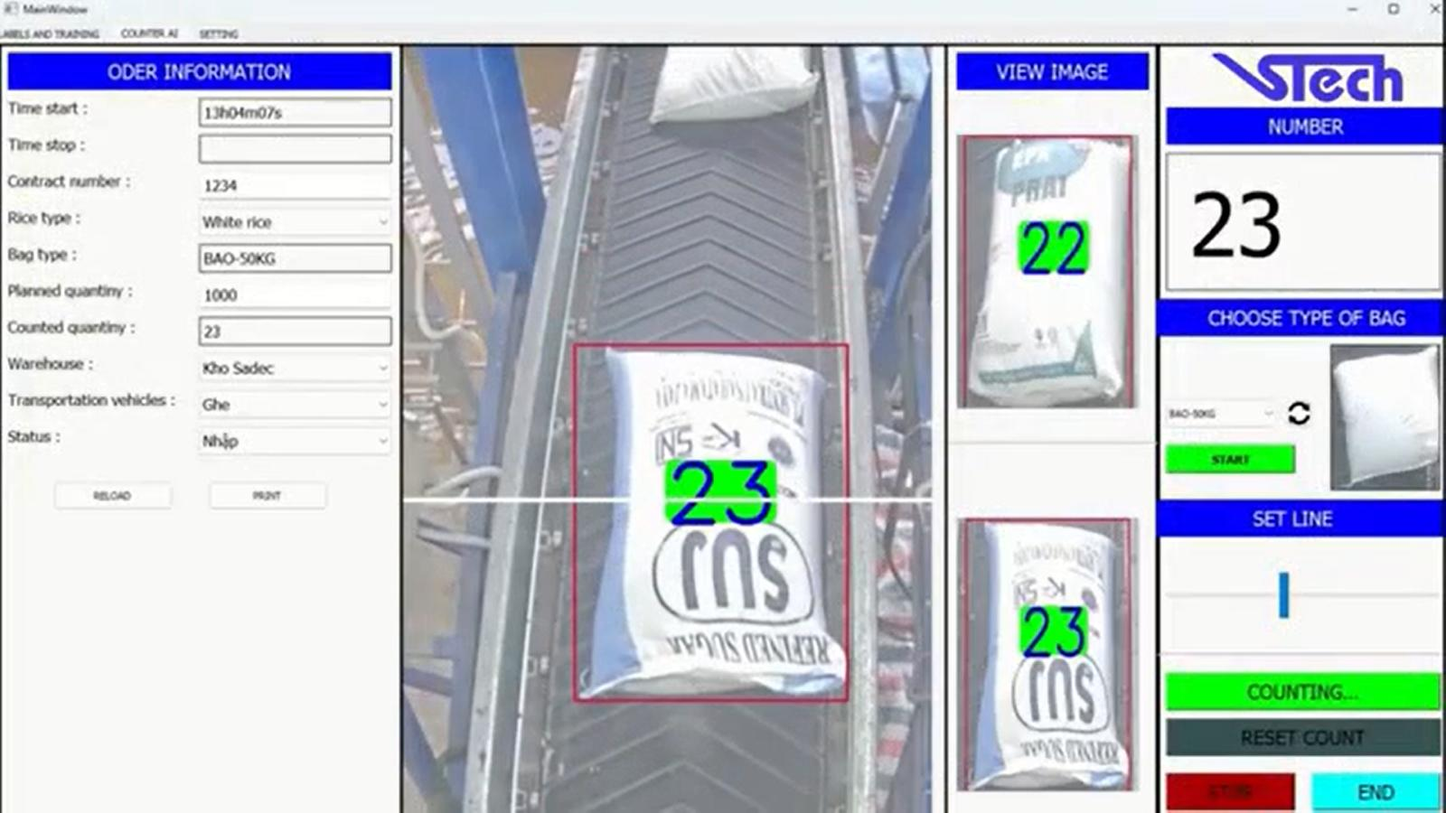rice-bag: (579, 350, 850, 698), (966, 139, 1131, 406), (971, 521, 1129, 789)
